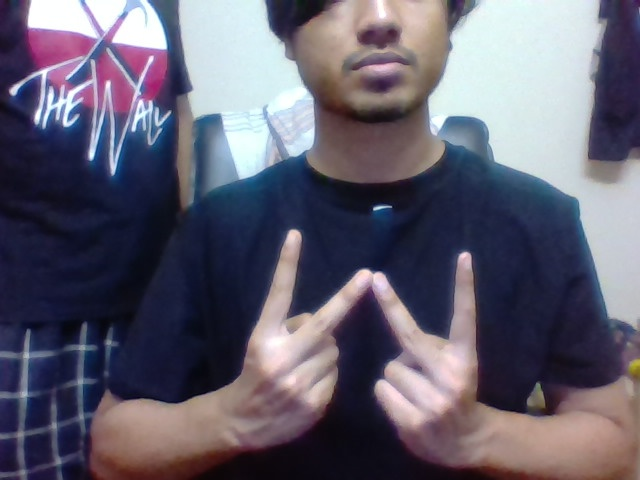W: (258, 217, 491, 346)
